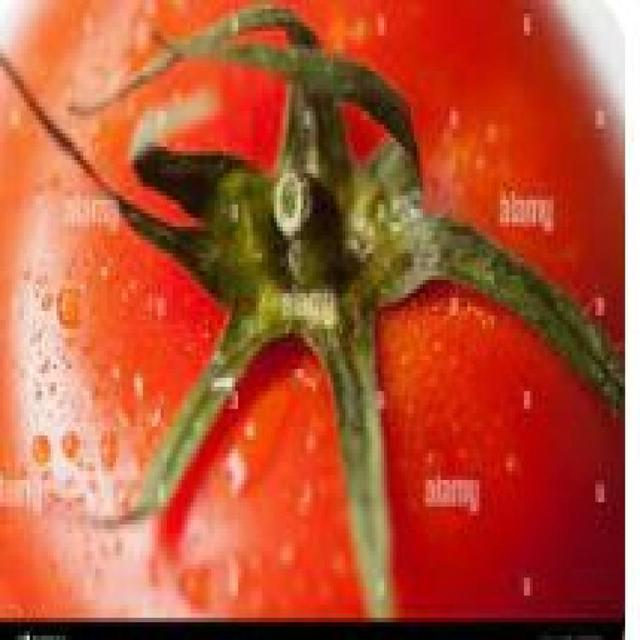Healthy Fruit: (0, 0, 411, 420)
